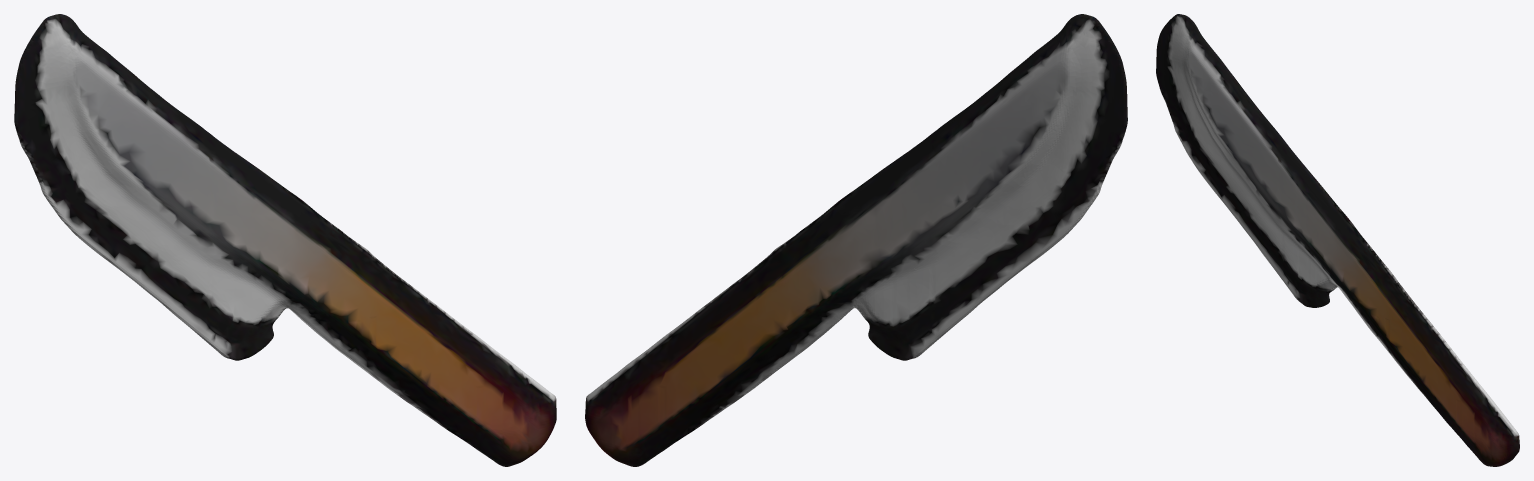
File: slicingknife.glb
The picture shows the model from 3 angles, left to right: view 1: azimuth 30°, elevation 25°; view 2: azimuth 150°, elevation 25°; view 3: azimuth 330°, elevation 25°; orthographic projection. The views are drawn at different scales.
Visible parts, largest first — view 1: geometry_0; view 2: geometry_0; view 3: geometry_0.
Boxes of the visible parts, x1,y1,x2,y2 form: geometry_0: (14,14,556,466); geometry_0: (585,14,1127,466); geometry_0: (1156,14,1519,466).
Size of the model in its own units: 0.5938 by 0.5887 by 0.0276.
